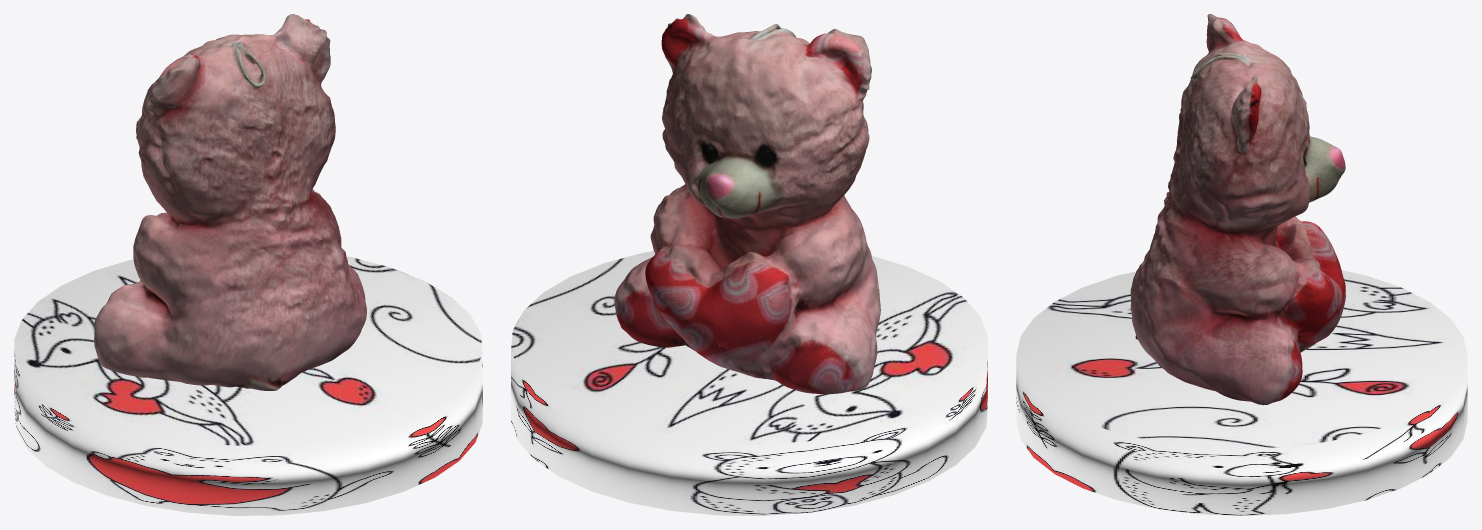
Rendered from asset.glb.
The picture shows the model from 3 angles, left to right: view 1: azimuth 30°, elevation 25°; view 2: azimuth 150°, elevation 25°; view 3: azimuth 270°, elevation 25°; orthographic projection. The views are drawn at different scales.
Parts seen in each view (by area): view 1: Cylinder, Mesh_0.013; view 2: Cylinder, Mesh_0.013; view 3: Cylinder, Mesh_0.013.
Boxes of the visible parts, x1,y1,x2,y2 form: Cylinder: (14, 256, 482, 515); Mesh_0.013: (94, 14, 366, 390); Cylinder: (511, 251, 987, 515); Mesh_0.013: (614, 14, 880, 393); Cylinder: (1016, 270, 1467, 515); Mesh_0.013: (1130, 14, 1345, 405).
Bounding box in the file's own units: 1.55 × 1.42 × 1.57.
Materials: 2 (2 with a texture image).
